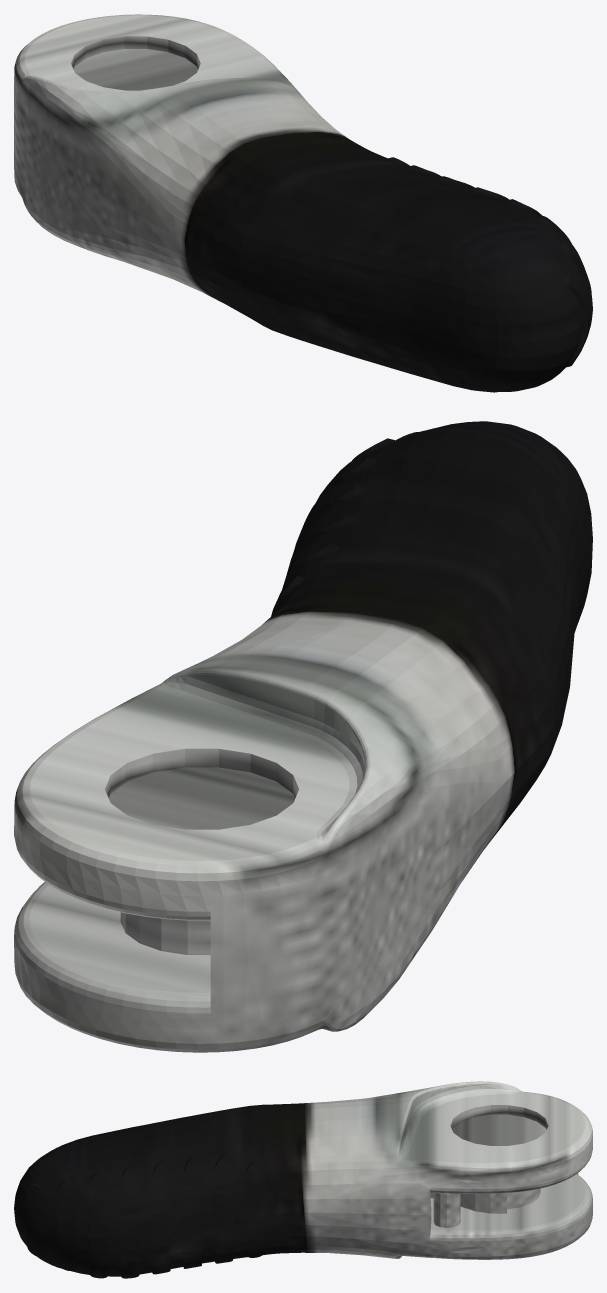
File: pinky_distal.obj
3 views of the same model, one above another, from view 1: azimuth 30°, elevation 25°; view 2: azimuth 150°, elevation 25°; view 3: azimuth 270°, elevation 25° (orthographic). The views are drawn at different scales.
Visible parts, largest first — view 1: Pinky_Distal; view 2: Pinky_Distal; view 3: Pinky_Distal.
Part boxes in pixels (x1,y1,x2,y2): Pinky_Distal: [14, 14, 592, 392]; Pinky_Distal: [14, 421, 592, 1052]; Pinky_Distal: [14, 1081, 592, 1278].
Size of the model in its own units: 0.0236 by 0.0146 by 0.0564.
Materials: 1 (1 with a texture image).
